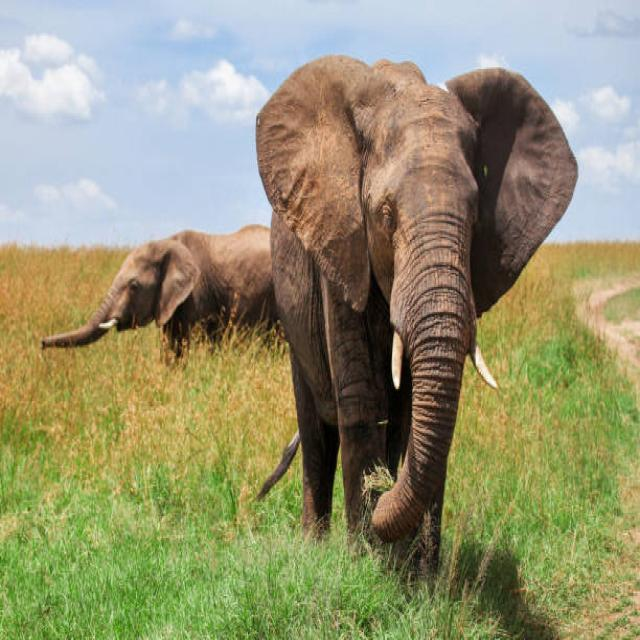Elephant: (245, 32, 580, 594), (13, 178, 288, 418)
